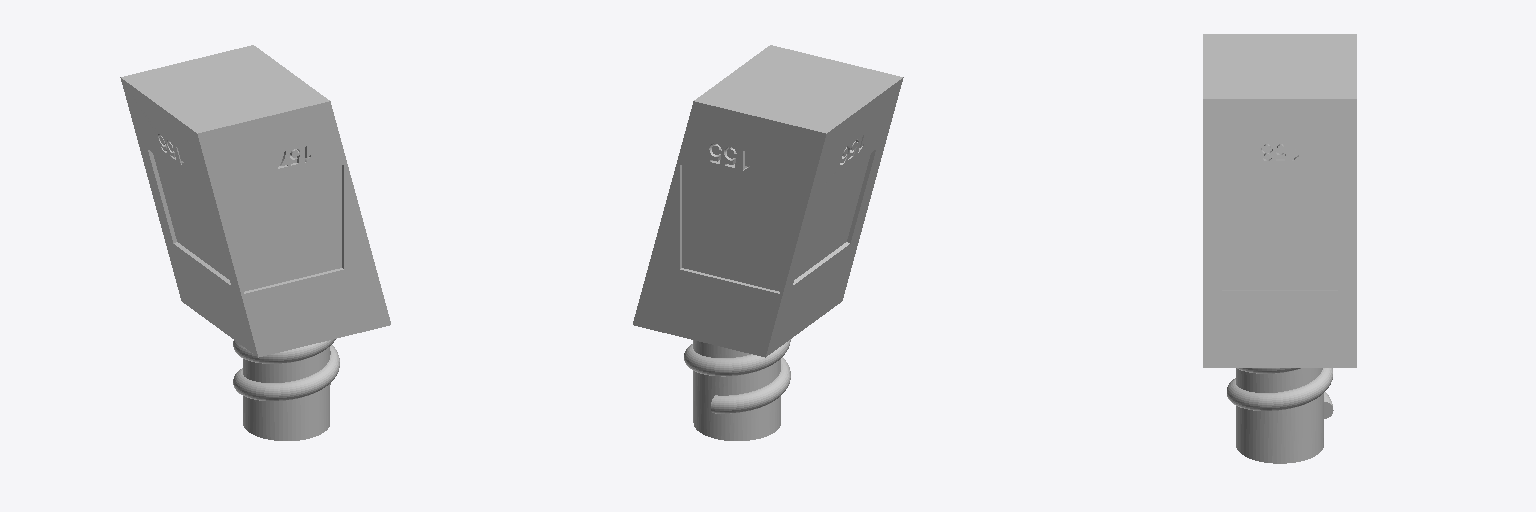
File: stool_leg3.obj
3 views of the same model, side by side, from view 1: azimuth 30°, elevation 25°; view 2: azimuth 150°, elevation 25°; view 3: azimuth 270°, elevation 25° (orthographic).
Parts seen in each view (by area): view 1: stool_leg3_v2, stool_leg3_v2.003, stool_leg3_v2.002; view 2: stool_leg3_v2, stool_leg3_v2.001, stool_leg3_v2.002; view 3: stool_leg3_v2, stool_leg3_v2.004.
Part boxes in pixels (x1,y1,x2,y2): stool_leg3_v2: (120,45,390,440); stool_leg3_v2.003: (244,165,343,293); stool_leg3_v2.002: (148,150,230,284); stool_leg3_v2: (633,45,903,440); stool_leg3_v2.001: (680,165,779,293); stool_leg3_v2.002: (793,150,875,284); stool_leg3_v2: (1203,34,1356,463); stool_leg3_v2.004: (1222,177,1337,290).
Bounding box in the file's own units: 0.0511 × 0.0875 × 0.035.